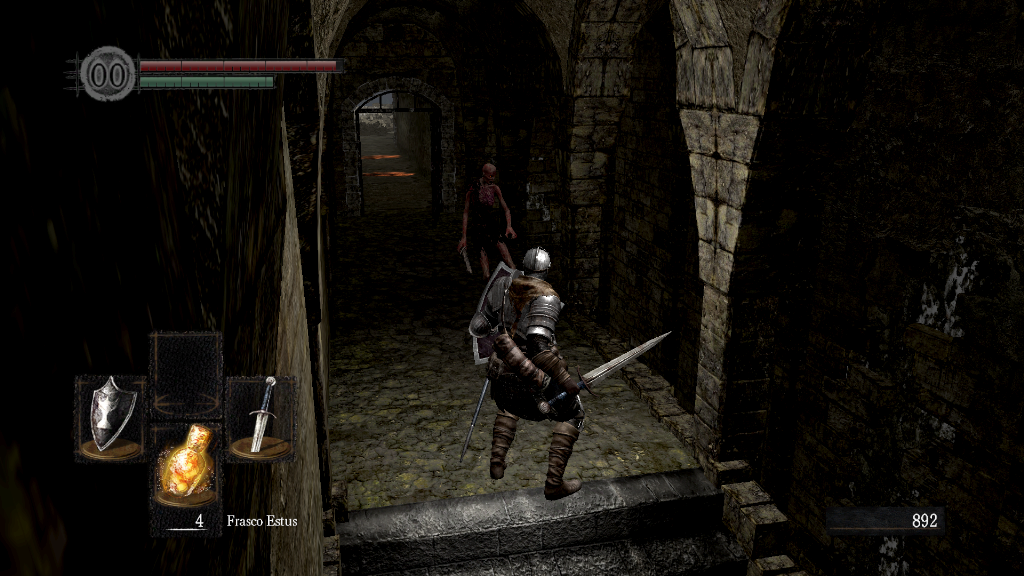health: (138, 58, 343, 71)
hollow: (458, 160, 520, 277)
humanity: (80, 45, 136, 102)
player: (461, 248, 675, 499)
souls: (825, 506, 945, 536)
stamina: (138, 74, 274, 88)
